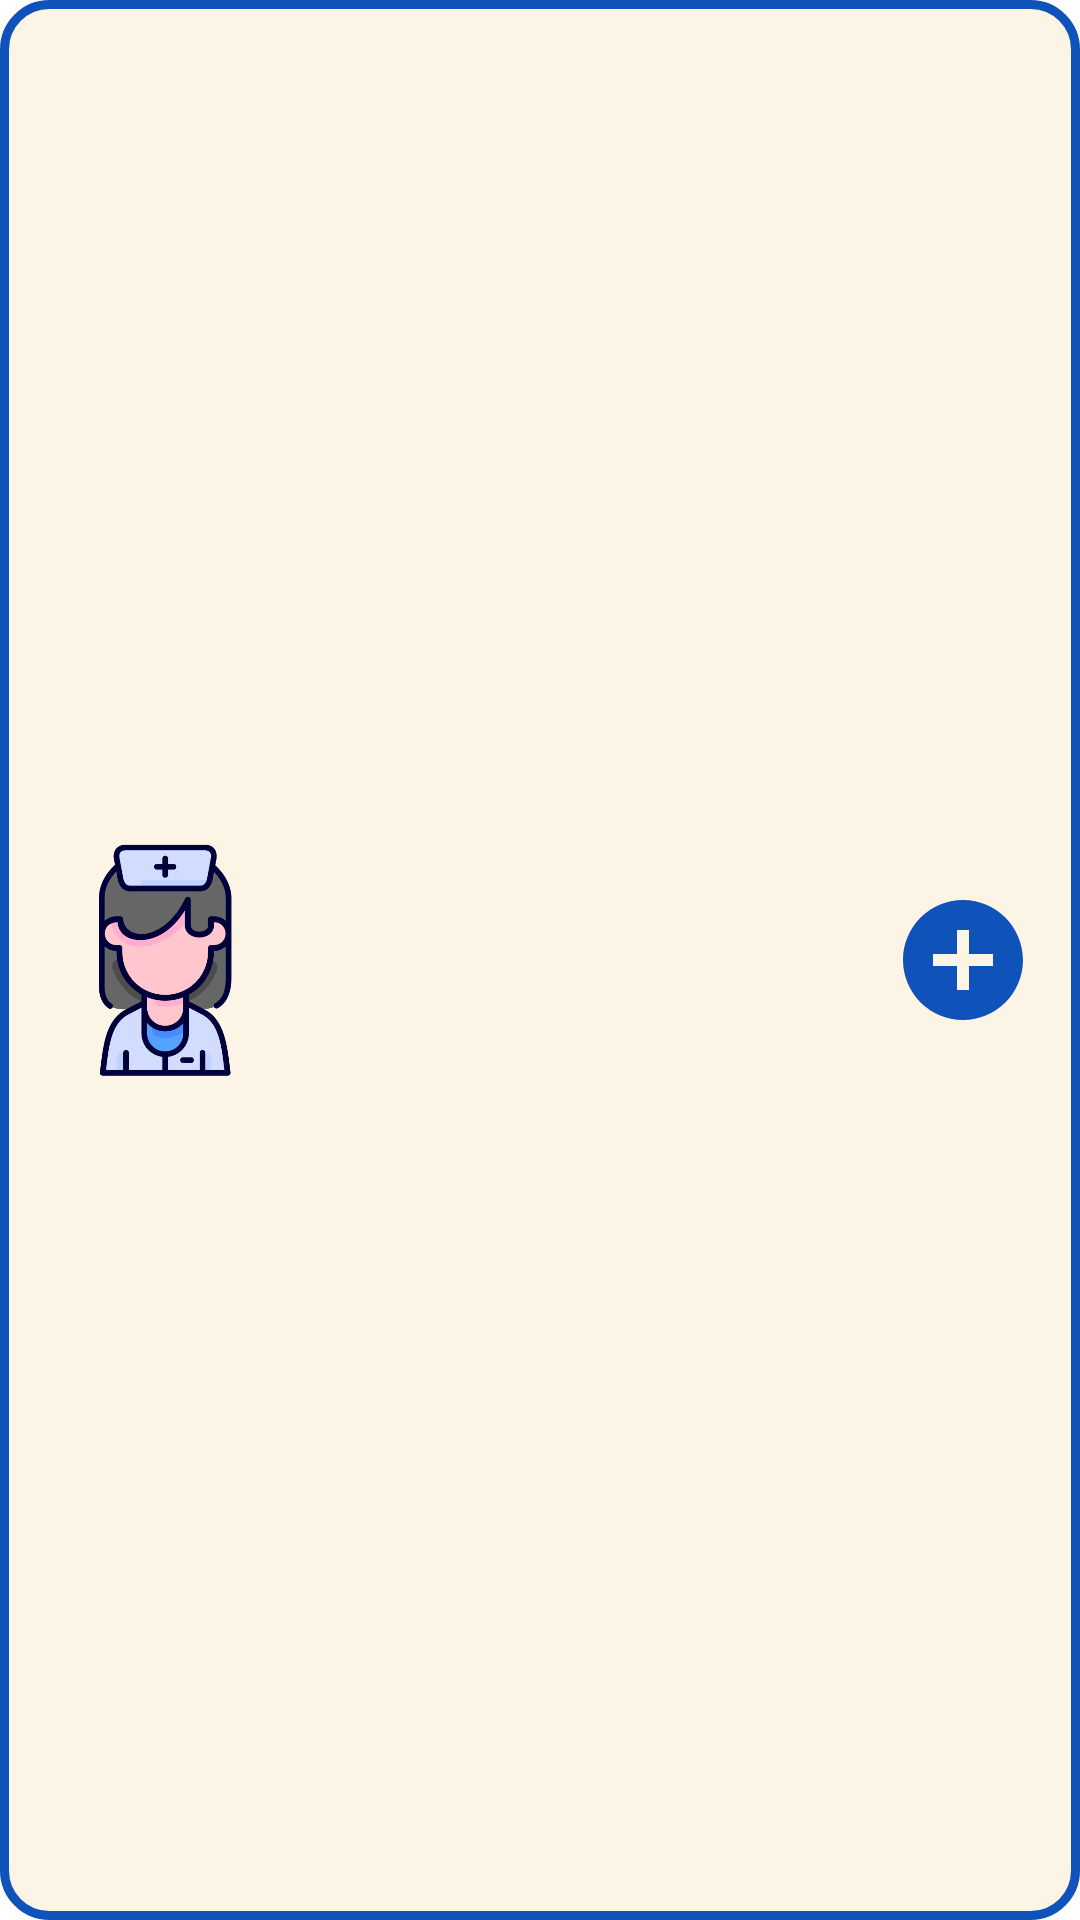

Icons on this 1080×1920 Android screen, each with its box as [x1, y1, x2, y2]:
add: [903, 900, 1023, 1020]
nurse: [99, 844, 232, 1076]
